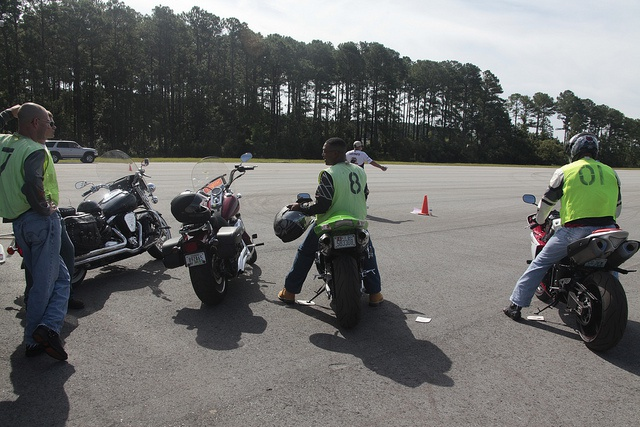non-vehicle: (522, 194, 639, 353), (56, 146, 170, 289), (166, 153, 262, 297), (313, 225, 369, 328)
